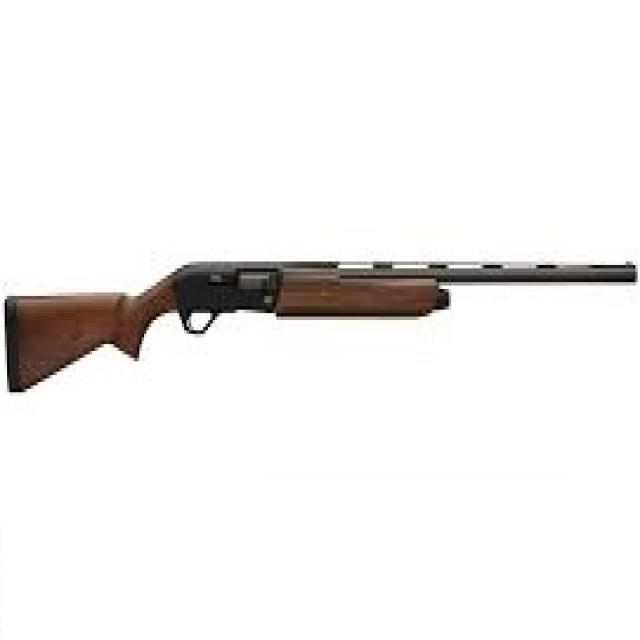rifle: (2, 250, 640, 402)
